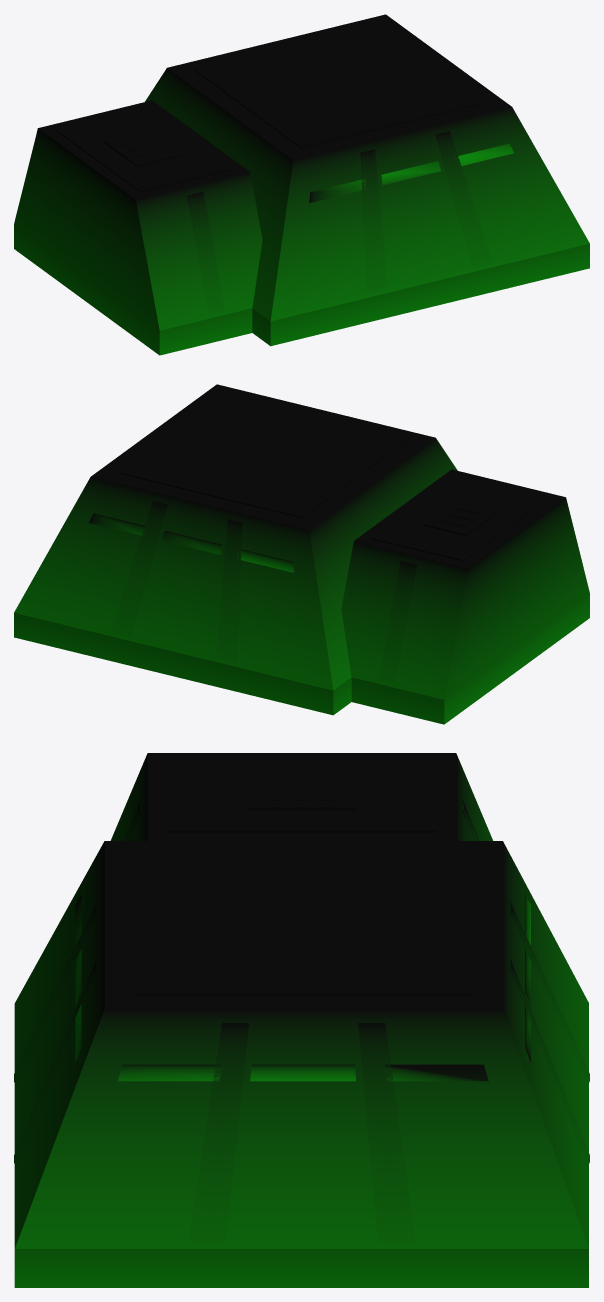
File: hpg_end.glb
The picture shows the model from 3 angles, top to bottom: view 1: azimuth 30°, elevation 25°; view 2: azimuth 150°, elevation 25°; view 3: azimuth 270°, elevation 25°; orthographic projection. The views are drawn at different scales.
Parts seen in each view (by area): view 1: lod0; view 2: lod0; view 3: lod0.
Part boxes in pixels (x1,y1,x2,y2): lod0: [14, 14, 589, 355]; lod0: [14, 384, 589, 724]; lod0: [14, 753, 589, 1287].
Size of what is drawn, in the model's own units: 20.92 by 7.46 by 16.05.
